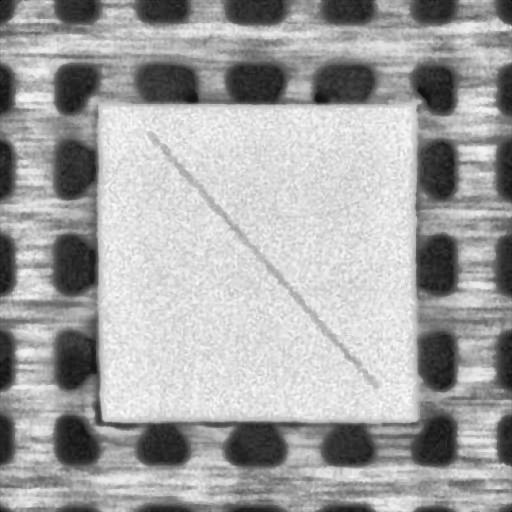DIE_CRACK: (147, 131, 374, 386)
